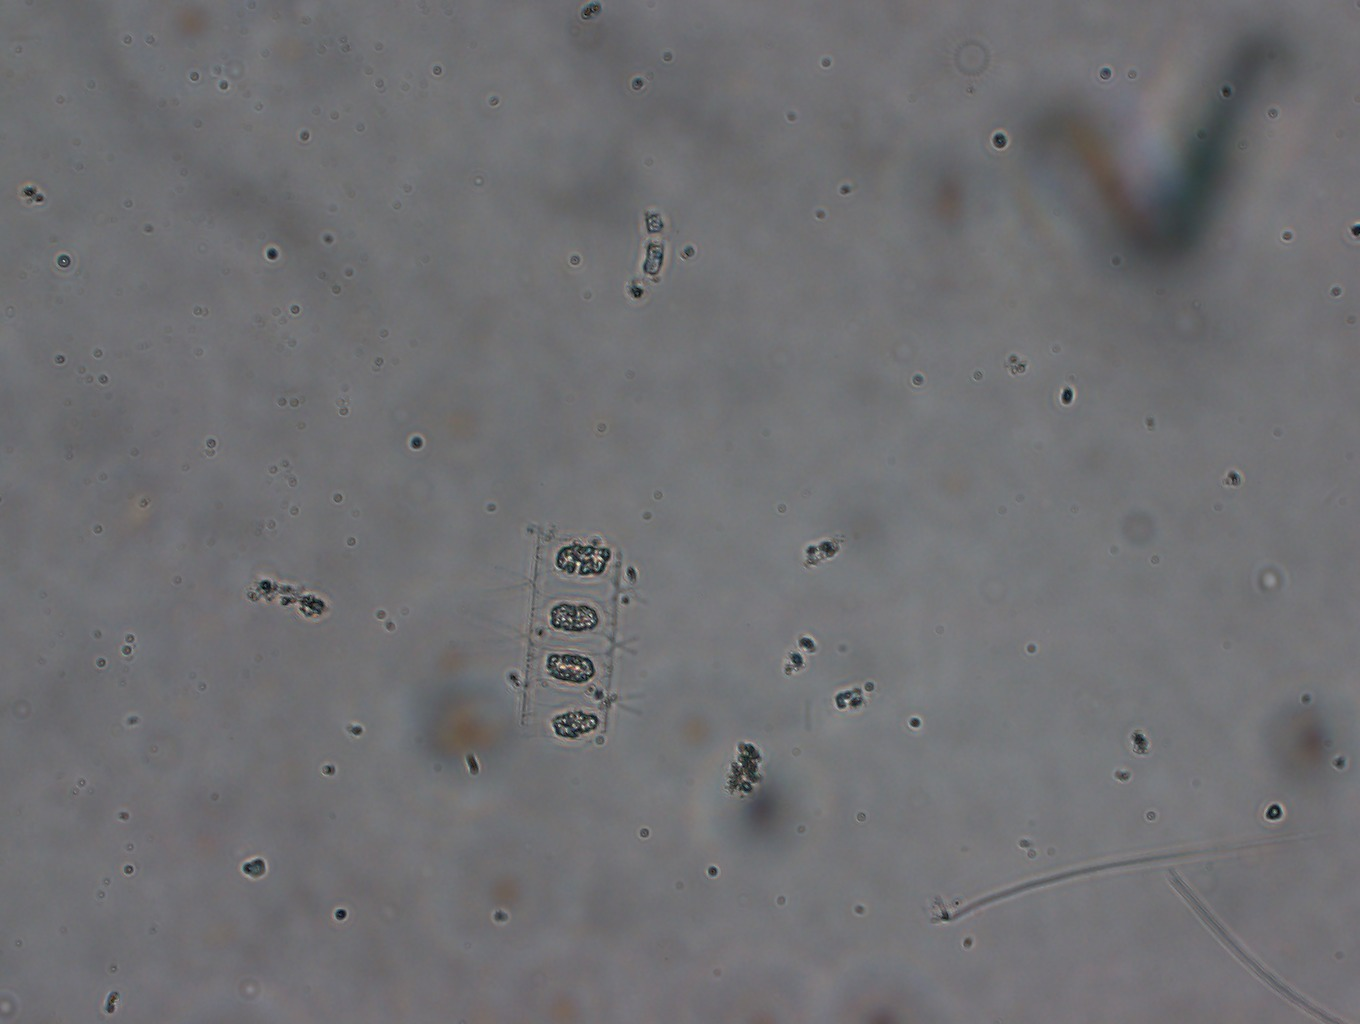chaetoceros: (476, 529, 659, 748)
